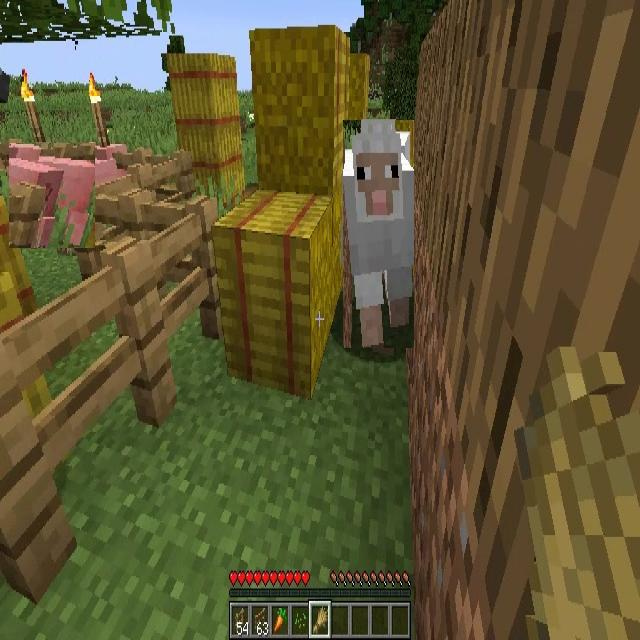pig: (41, 144, 131, 256), (10, 143, 96, 248)
sheep: (343, 120, 414, 348)
